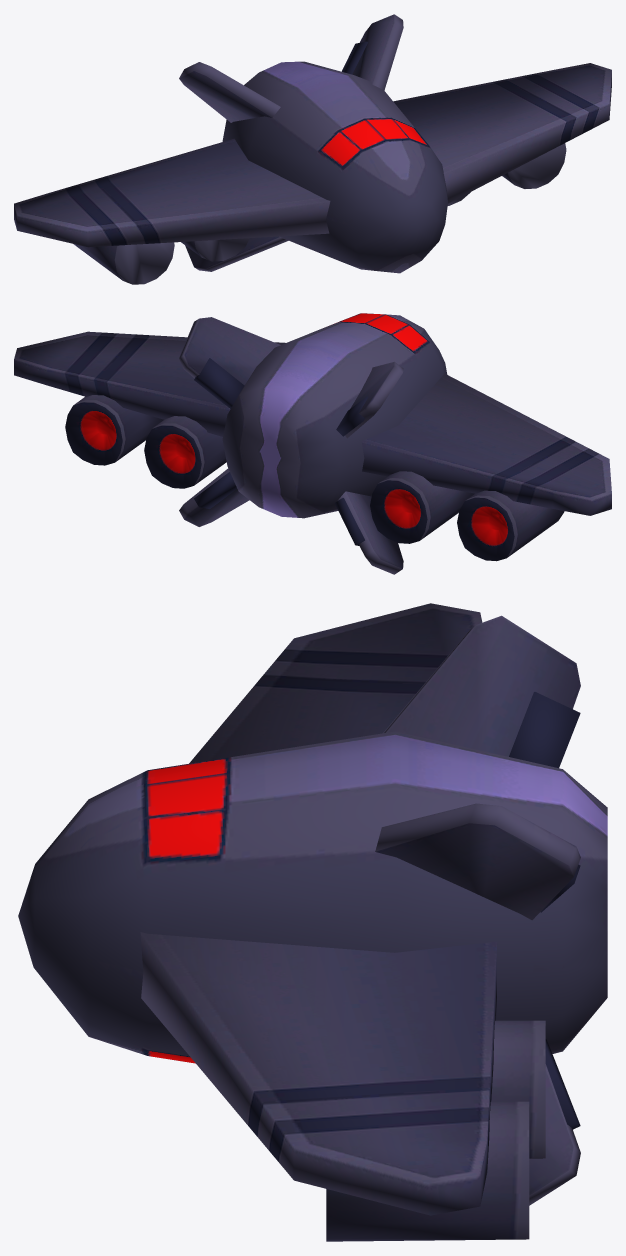
3 renders of one model, top to bottom at view 1: azimuth 30°, elevation 25°; view 2: azimuth 150°, elevation 25°; view 3: azimuth 270°, elevation 25°, orthographic. The views are drawn at different scales.
Visible parts, largest first — view 1: GoldPlane; view 2: GoldPlane; view 3: GoldPlane.
Boxes of the visible parts, bbox=[...] form: GoldPlane: bbox=[14, 14, 611, 284]; GoldPlane: bbox=[14, 313, 611, 574]; GoldPlane: bbox=[18, 603, 607, 1241].
Bounding box in the file's own units: 48.56 × 16.28 × 20.84.
